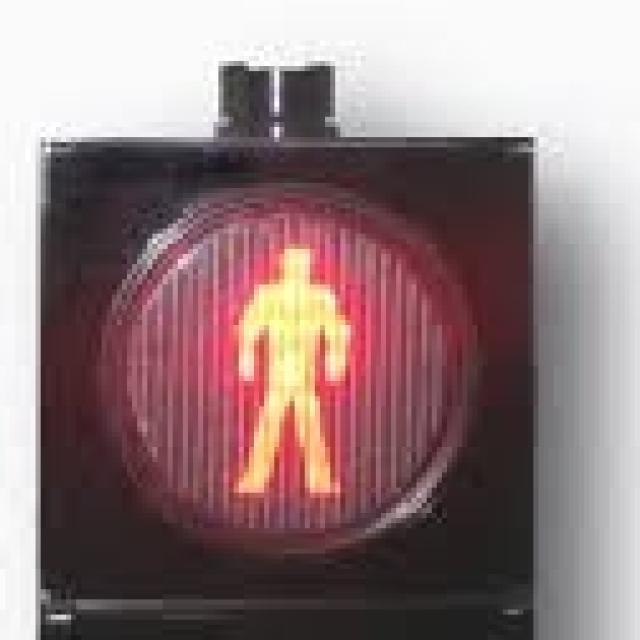red_light: (213, 224, 361, 514)
